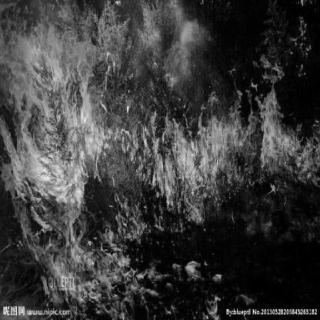Fire: (4, 6, 317, 308)
